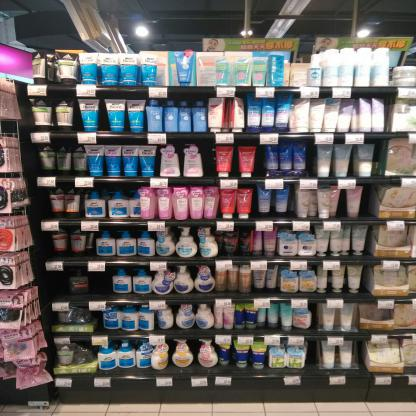Void: (43, 272, 64, 296), (90, 271, 108, 292), (204, 142, 214, 178), (362, 186, 372, 215), (258, 143, 265, 179)
